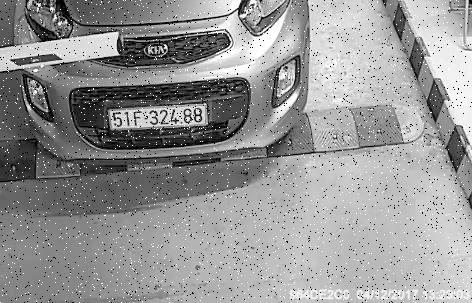License-plate: (106, 101, 215, 139)
